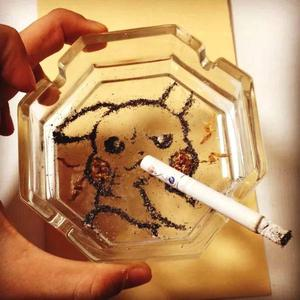cigarette: (138, 152, 291, 248)
